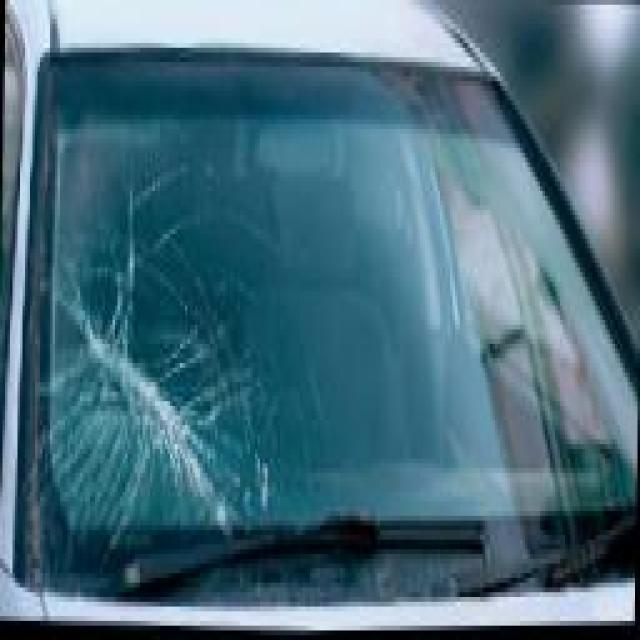Windshield: (0, 33, 638, 640)
